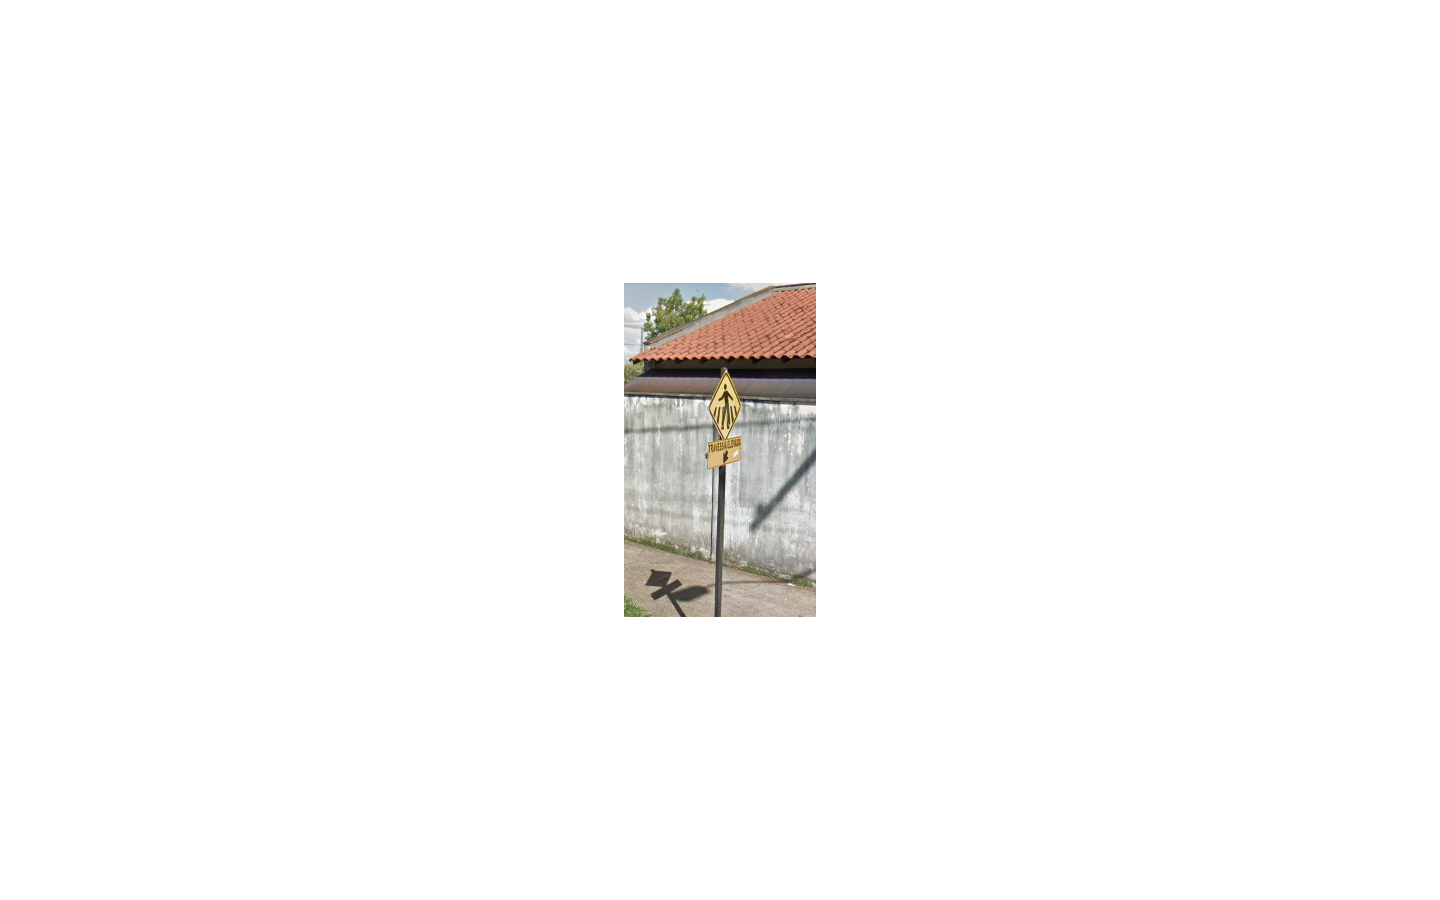telev: (707, 371, 742, 467)
